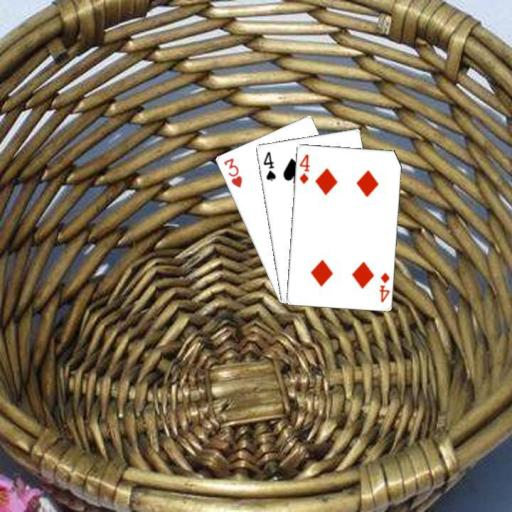3H: (221, 154, 244, 189)
4D: (296, 151, 311, 185), (376, 269, 391, 303)
4S: (260, 148, 278, 182)
